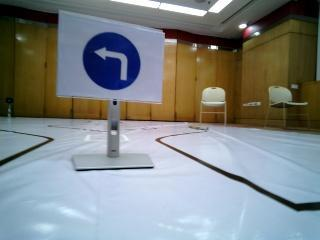left: (65, 17, 153, 100)
